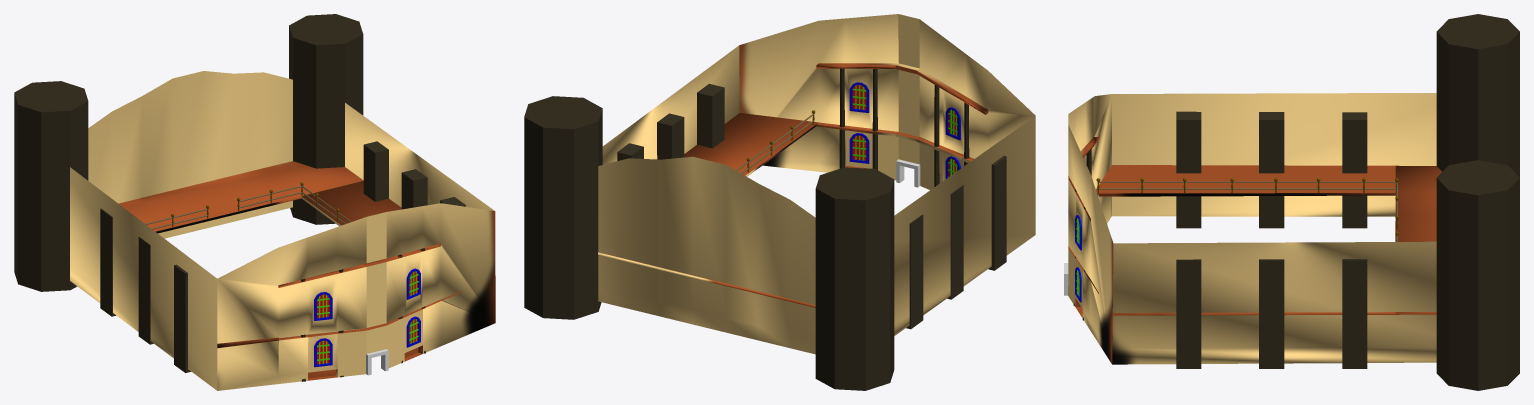
The model's file is stageSelectK.fbx.
3 views of the same model, side by side, from view 1: azimuth 30°, elevation 25°; view 2: azimuth 150°, elevation 25°; view 3: azimuth 270°, elevation 25° (orthographic). The views are drawn at different scales.
Visible parts, largest first — view 1: Stage.048; view 2: Stage.048; view 3: Stage.048.
Boxes of the visible parts, x1=… form: Stage.048: x1=14, y1=14, x2=495, y2=390; Stage.048: x1=524, y1=14, x2=1035, y2=390; Stage.048: x1=1064, y1=14, x2=1519, y2=390.
Size of the model in its own units: 15014 by 7551 by 15951.
